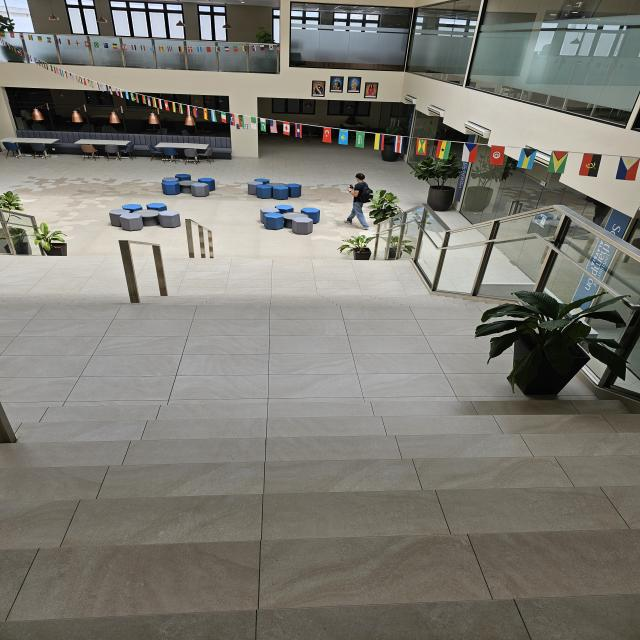footpath: (22, 318, 450, 639)
obstacle: (480, 287, 610, 398), (110, 236, 175, 304), (251, 202, 323, 236), (102, 203, 189, 230), (183, 216, 224, 262), (33, 226, 76, 262), (346, 233, 373, 259)
person: (346, 163, 378, 229)
